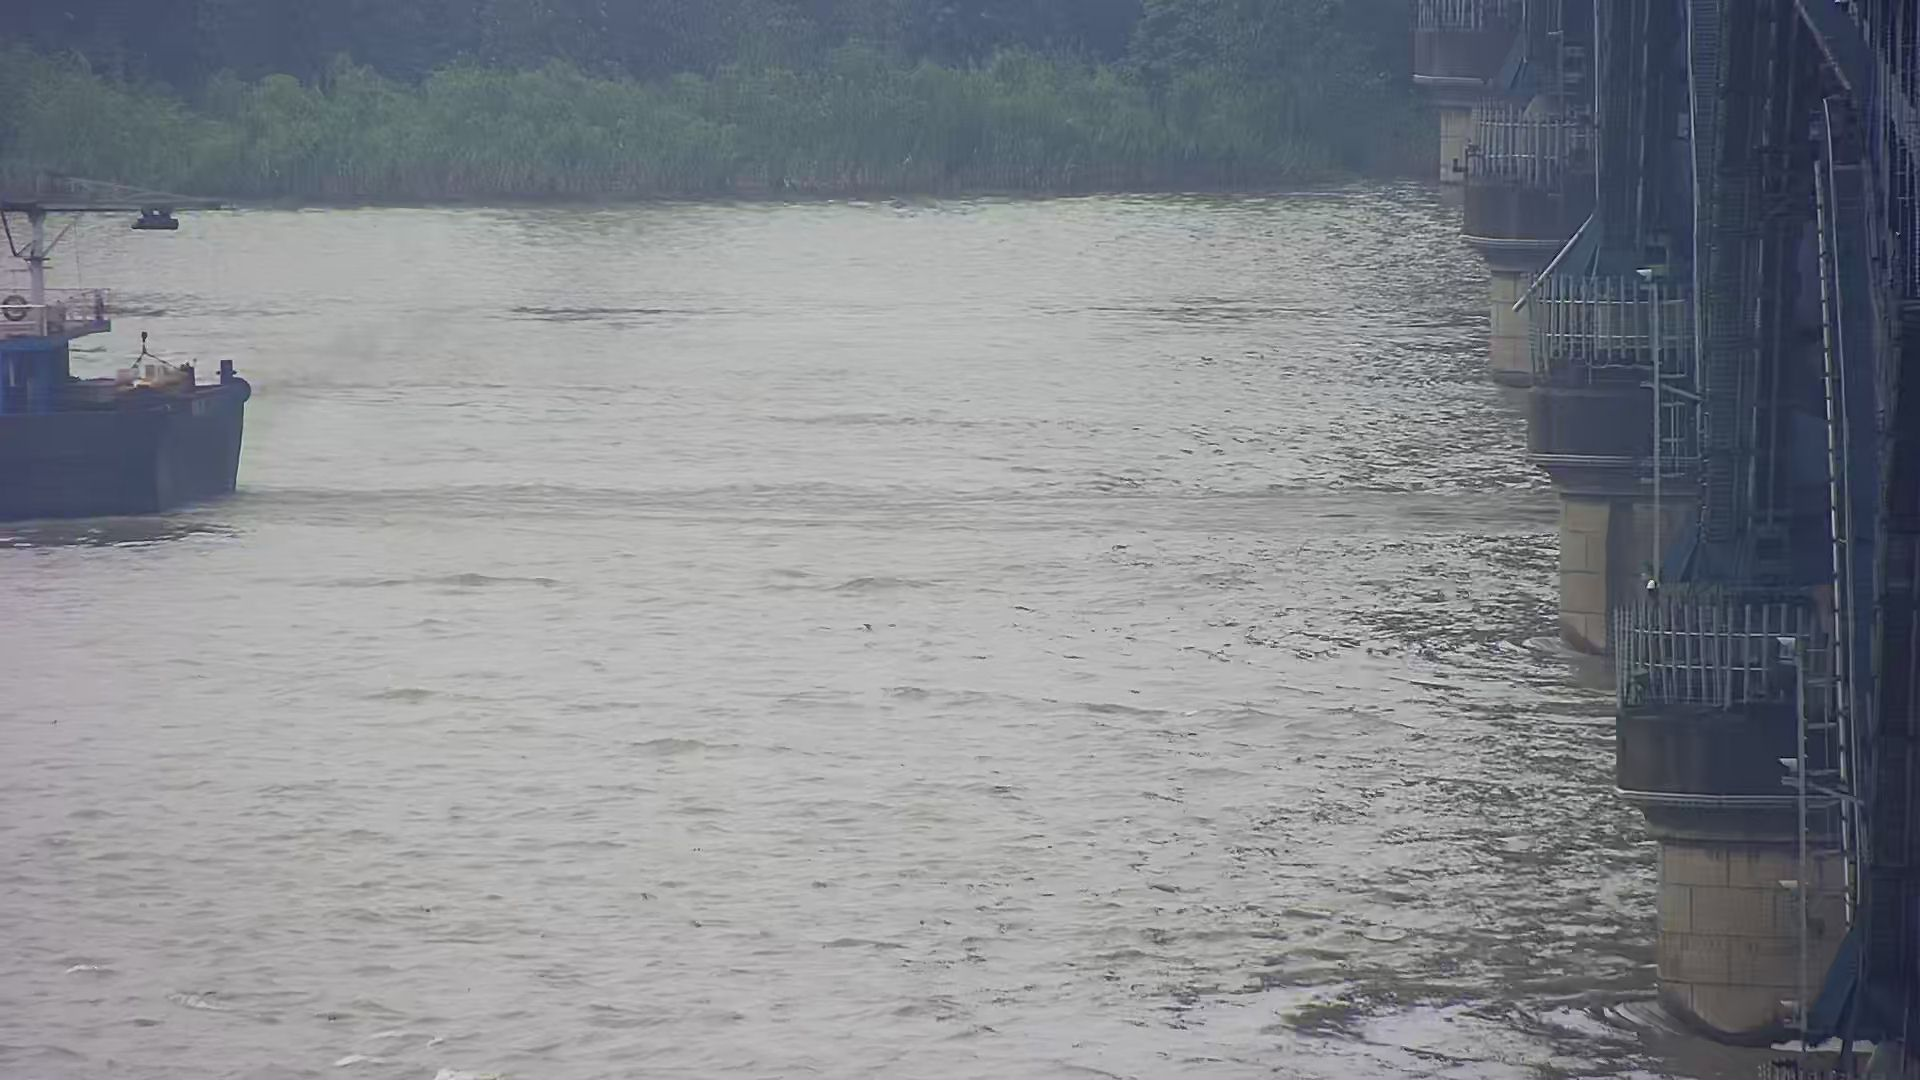bridge: (1406, 8, 1909, 1080)
ship: (1, 138, 281, 527)
